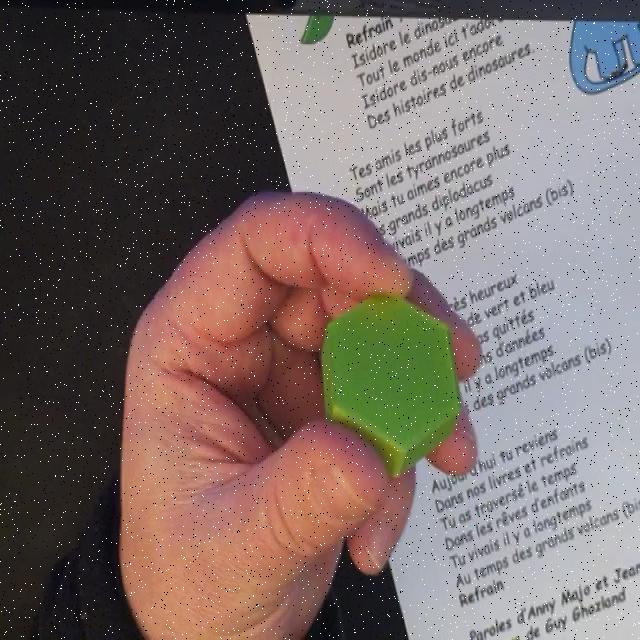hexagon: (320, 292, 462, 478)
